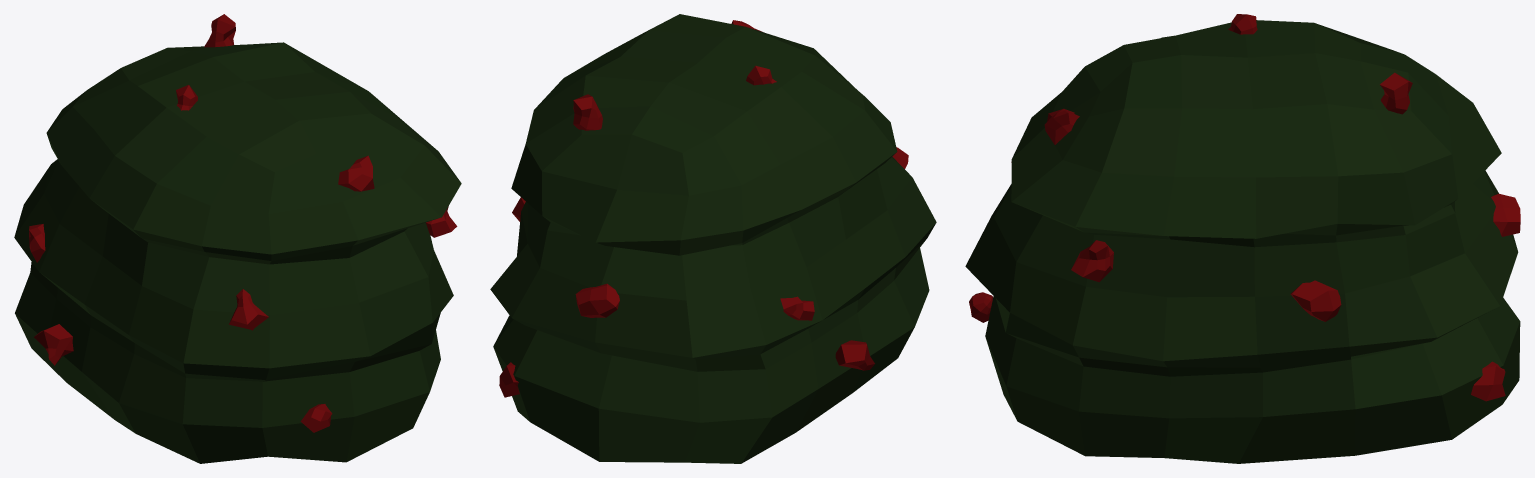
Rendered from BushBerries_1.glb.
3 views of the same model, side by side, from view 1: azimuth 30°, elevation 25°; view 2: azimuth 150°, elevation 25°; view 3: azimuth 270°, elevation 25° (orthographic). The views are drawn at different scales.
Visible parts, largest first — view 1: BushBerries_1_Cube.044; view 2: BushBerries_1_Cube.044; view 3: BushBerries_1_Cube.044.
Boxes of the visible parts, x1,y1,x2,y2 form: BushBerries_1_Cube.044: [14, 14, 461, 463]; BushBerries_1_Cube.044: [490, 14, 936, 463]; BushBerries_1_Cube.044: [965, 14, 1520, 463].
Bounding box in the file's own units: 1.39 × 1.28 × 1.72.
